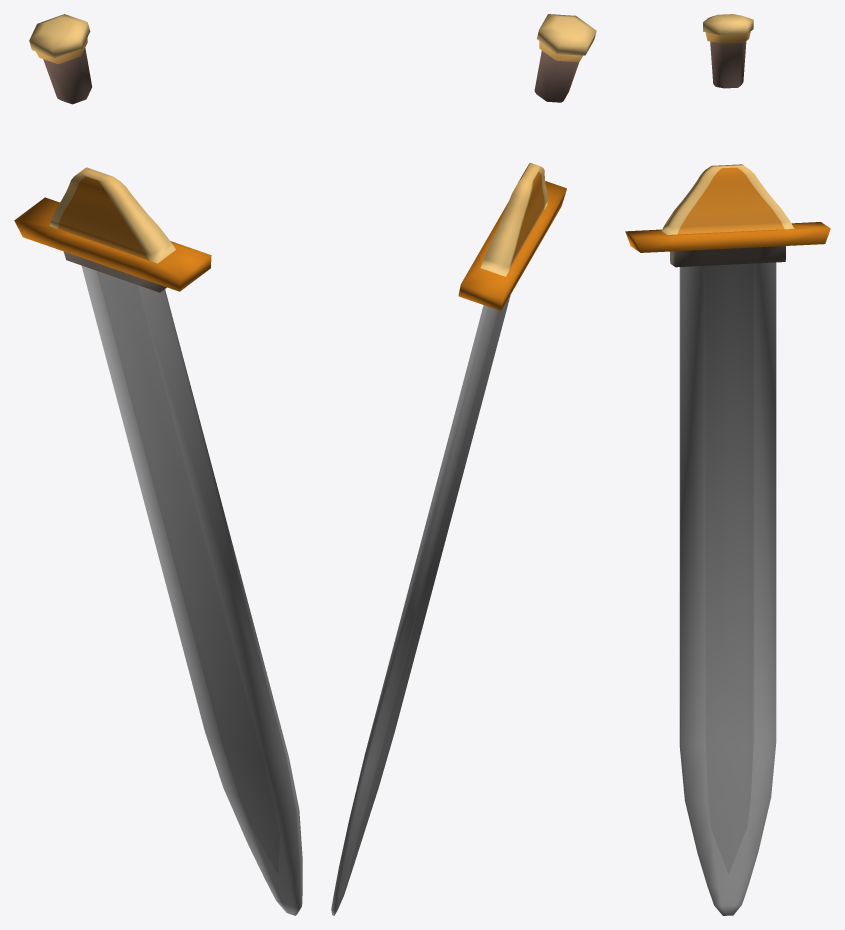
The model's file is obj_sword.fbx.
3 renders of one model, left to right at view 1: azimuth 30°, elevation 25°; view 2: azimuth 150°, elevation 25°; view 3: azimuth 270°, elevation 25°, orthographic. The views are drawn at different scales.
Parts seen in each view (by area): view 1: Cube.057; view 2: Cube.057; view 3: Cube.057.
Boxes of the visible parts, x1,y1,x2,y2 form: Cube.057: (14, 14, 302, 915); Cube.057: (331, 14, 596, 915); Cube.057: (625, 14, 830, 915).
Bounding box in the file's own units: 337 × 1173 × 271.
